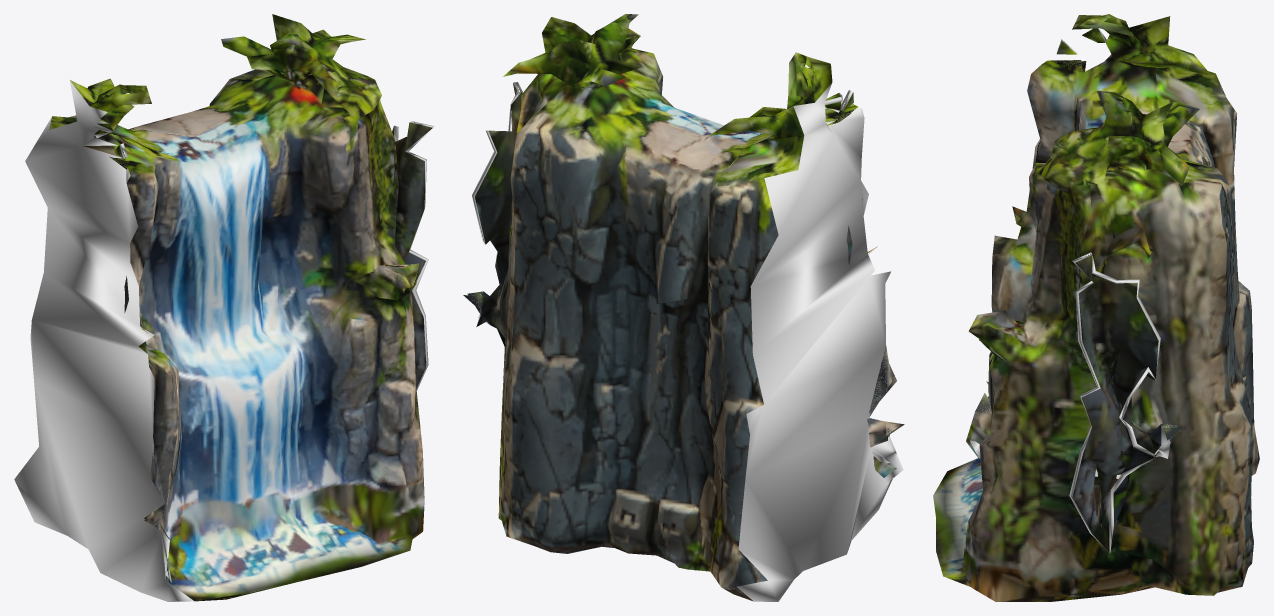
File: Waterfall_Wall_Closed.fbx
3 renders of one model, left to right at view 1: azimuth 30°, elevation 25°; view 2: azimuth 150°, elevation 25°; view 3: azimuth 270°, elevation 25°, orthographic. The views are drawn at different scales.
Parts seen in each view (by area): view 1: Waterfall_Wall_Mesh; view 2: Waterfall_Wall_Mesh; view 3: Waterfall_Wall_Mesh.
Boxes of the visible parts, bbox=[...] form: Waterfall_Wall_Mesh: bbox=[14, 14, 434, 601]; Waterfall_Wall_Mesh: bbox=[463, 14, 904, 601]; Waterfall_Wall_Mesh: bbox=[933, 14, 1259, 601].
Bounding box in the file's own units: 6.08 × 8.58 × 5.1.
